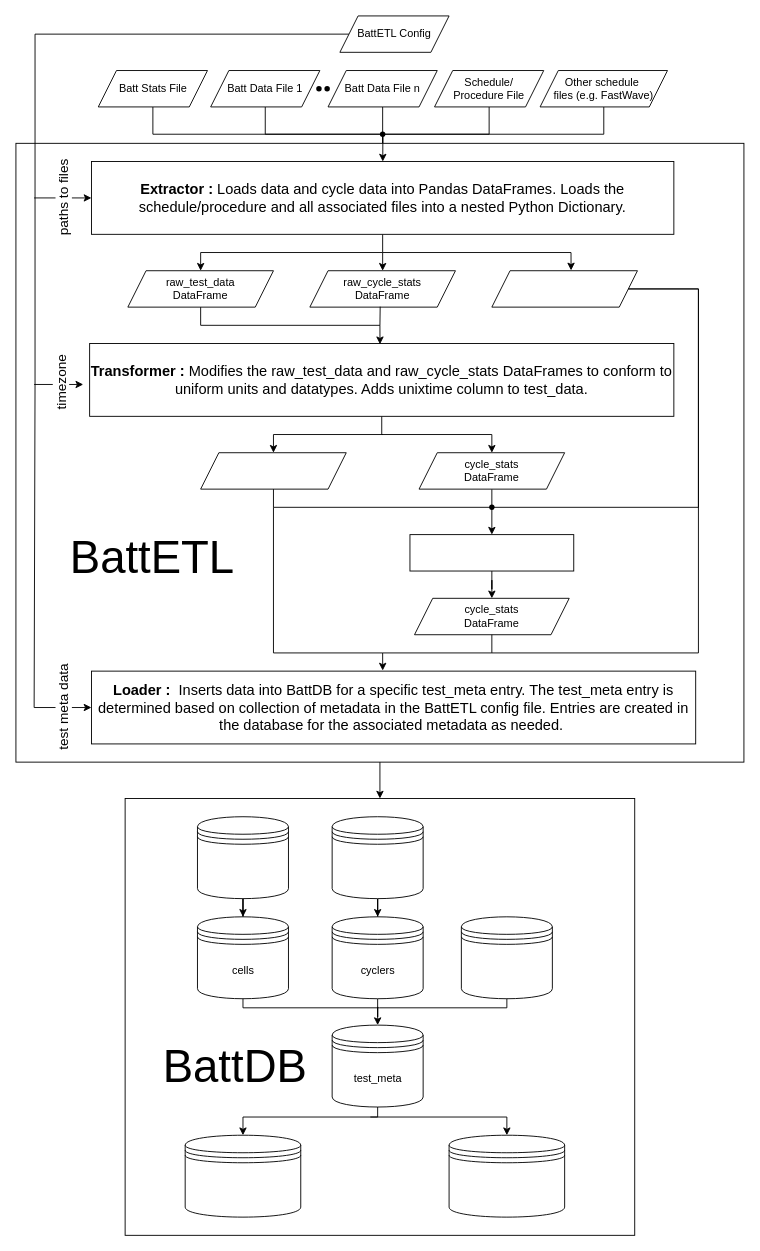
Image size: 760x1251. Some labels were removed from this diagram. Each missing label, with the centre of its shape:
"Calculate cycle stats" belongs at [491,552].
"cells_meta" belongs at [242,857].
"cyclers_meta" belongs at [377,857].
"nested schedule Dict" belongs at [564,288].
"schedules" belongs at [506,957].
"test_data" belongs at [242,1175].
"test_data DataFrame" belongs at [273,470].
"test_data_cycle_stats" belongs at [506,1175].
